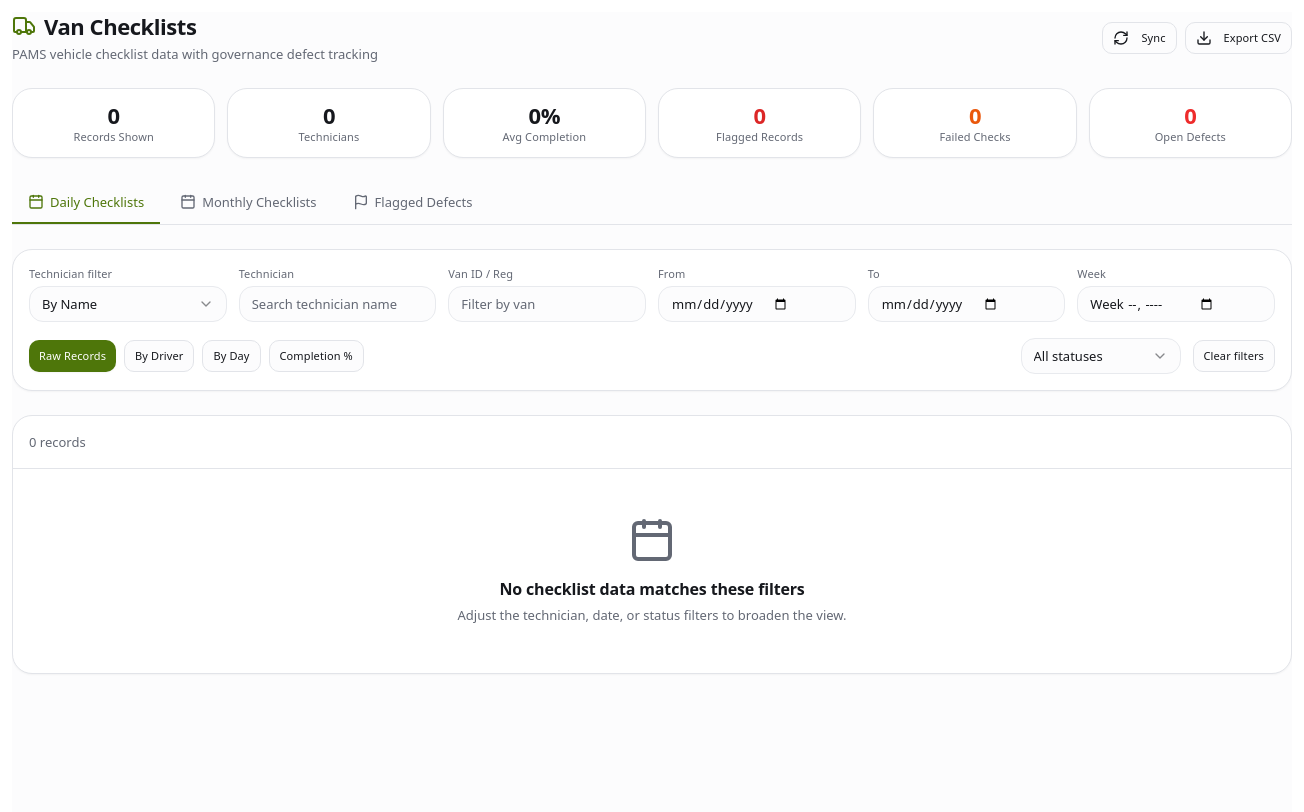
VehicleChecklists van kit compliance panel (AM-VAN) › renders kit assets with expiry status and safety-asset links
The width and height of the screenshot is (1304, 812).
Type "AB12CDE" into the field with placeholder "Filter by van" at (547, 304), box [448,286,646,322]
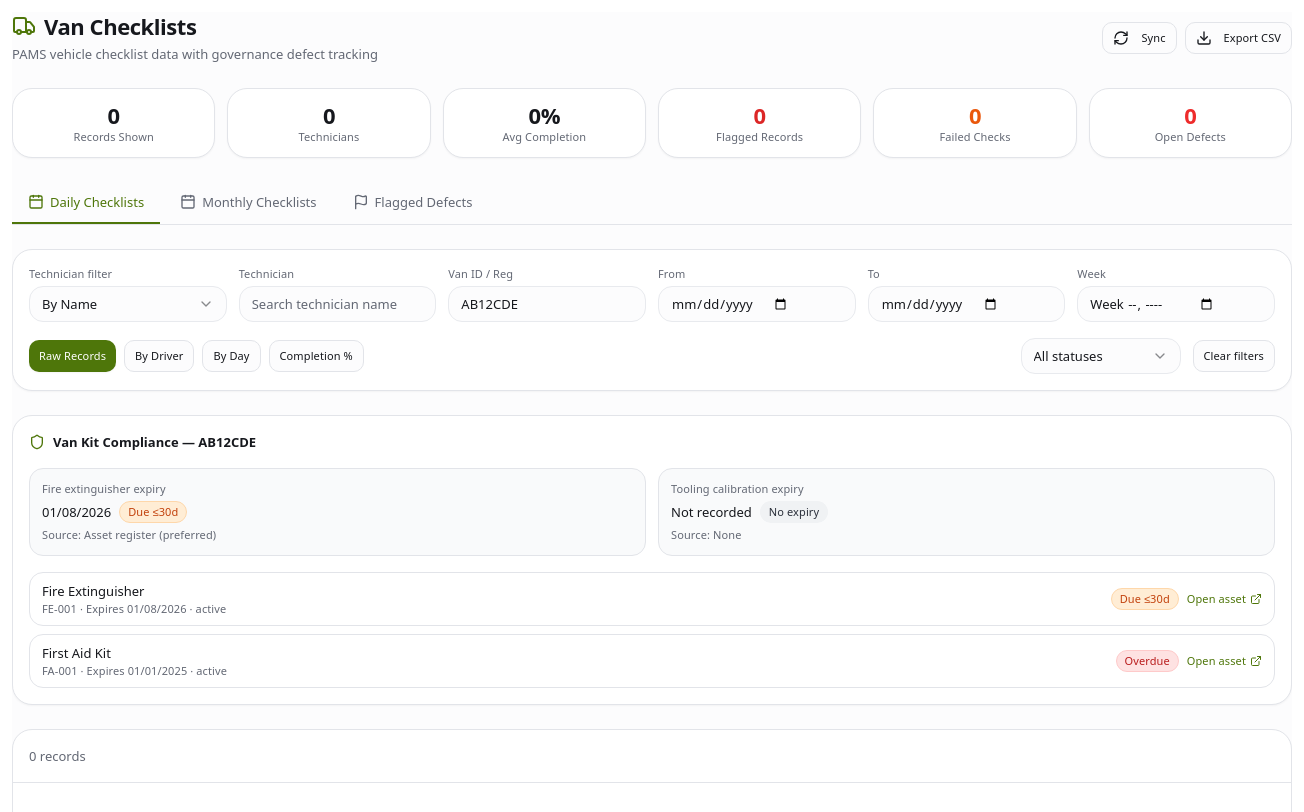
Now the element with test id "van-kit-compliance-panel" is shown, box [12,415,1292,705]
Now the list item with test id "van-kit-asset-42" is shown, box [29,572,1275,626]
Now the list item with test id "van-kit-asset-43" is shown, box [29,634,1275,688]
